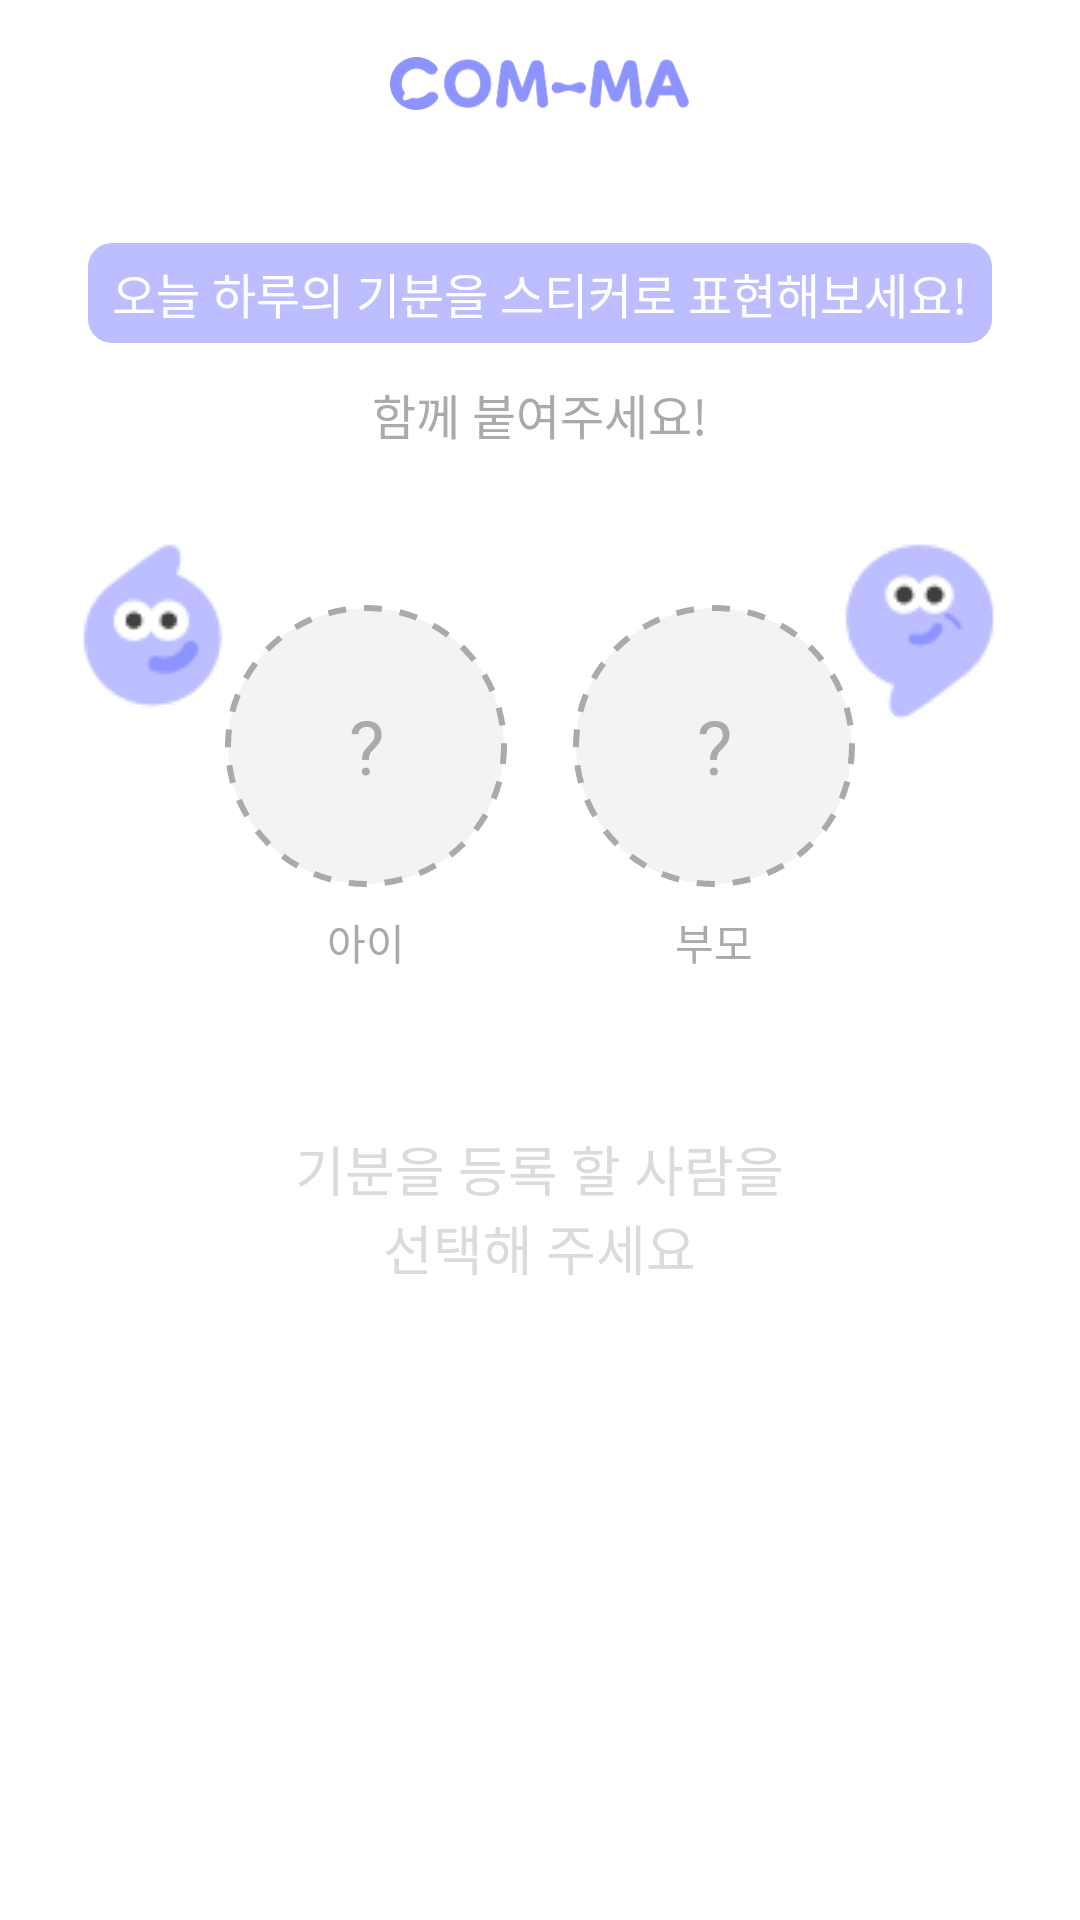

Where to tap for icons on this 1080 x 1920 app screen, as (x,y):
char child: (153,625)
